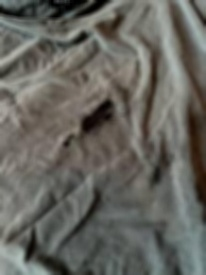oil: (58, 91, 117, 153)
